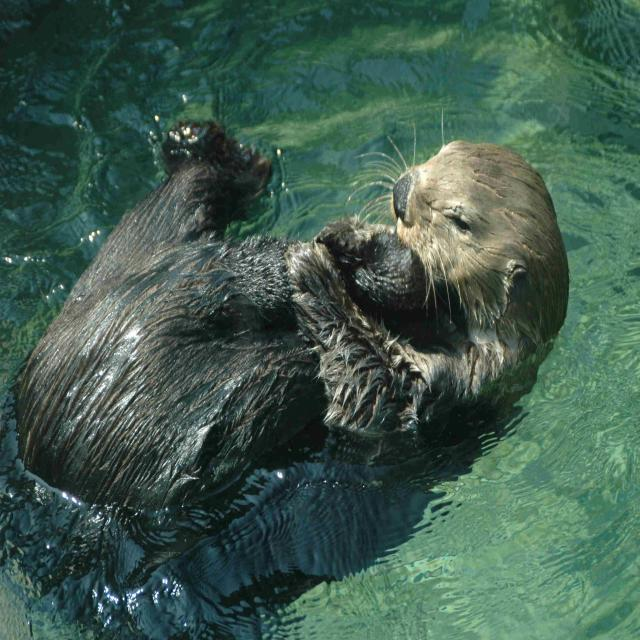otter: (19, 121, 571, 512)
